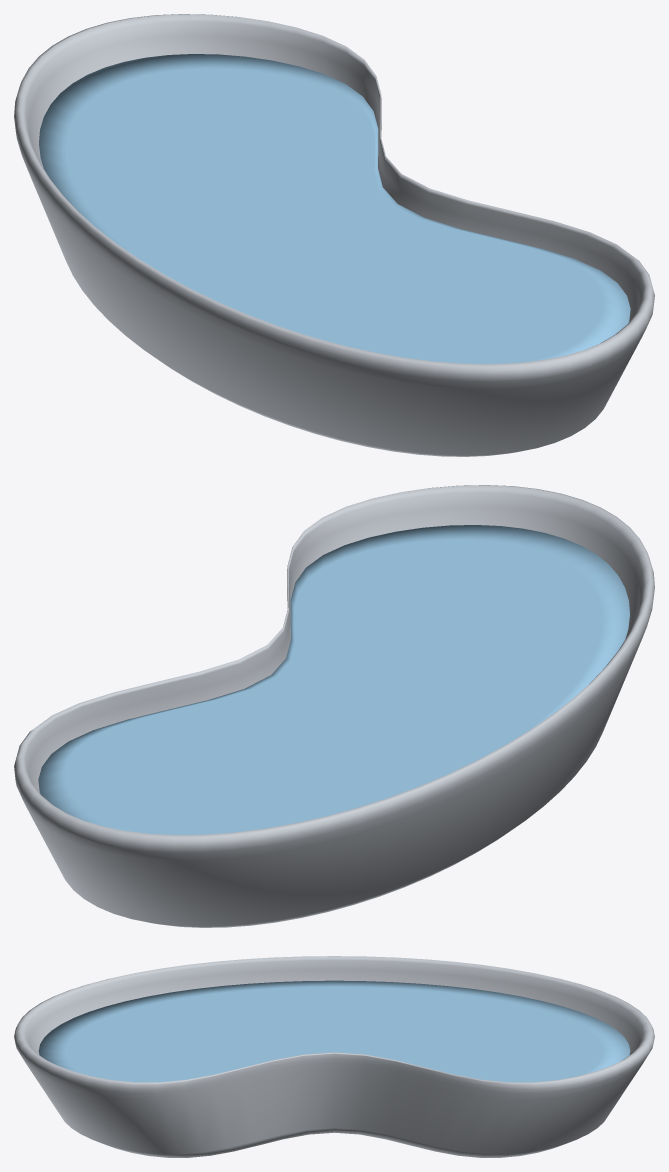
Rendered from kidney_dish.glb.
3 renders of one model, top to bottom at view 1: azimuth 30°, elevation 25°; view 2: azimuth 150°, elevation 25°; view 3: azimuth 270°, elevation 25°, orthographic. The views are drawn at different scales.
Parts seen in each view (by area): view 1: Pool, Dish; view 2: Pool, Dish; view 3: Dish, Pool.
Boxes of the visible parts, bbox=[...] form: Pool: bbox=[39, 54, 630, 364]; Dish: bbox=[14, 14, 654, 456]; Pool: bbox=[38, 525, 629, 835]; Dish: bbox=[14, 485, 654, 927]; Dish: bbox=[14, 956, 654, 1157]; Pool: bbox=[38, 980, 630, 1082].
Size of the model in its own units: 0.0953 by 0.029 by 0.2004.
